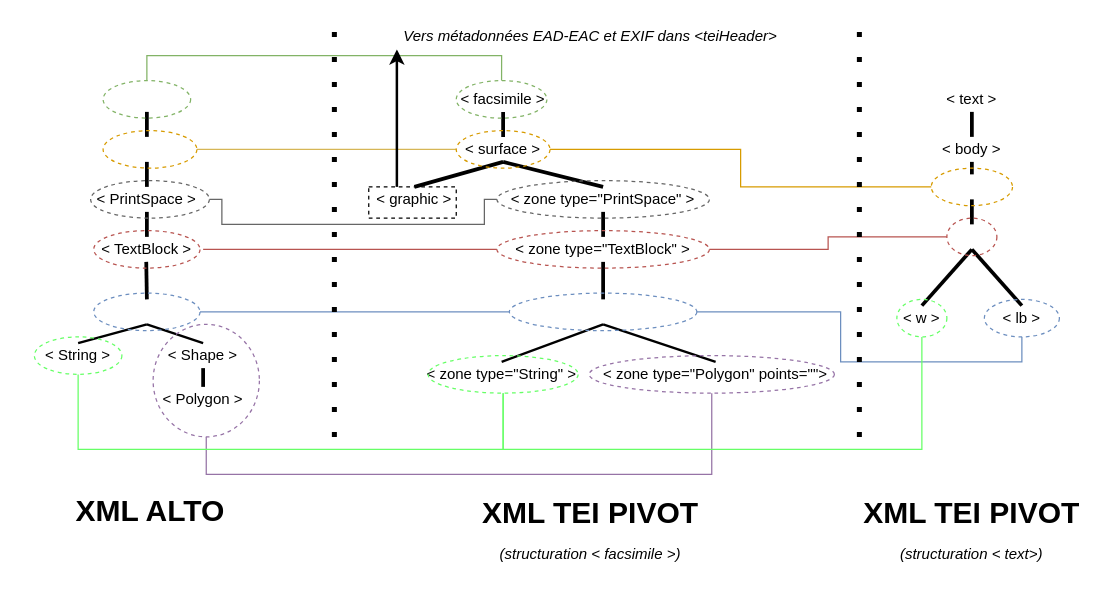
Image size: 1105x608. Some labels were removed from this diagram. The shapes that lost their labels are listed below. From the top down, each one's box as (x1, y1, x2, y2) in pixels, then its label:
(102, 79, 191, 118): < Layout >
(102, 129, 197, 168): < Page >
(930, 167, 1012, 206): < div >
(946, 217, 997, 256): < ab >
(92, 292, 200, 331): < TextLine >
(508, 292, 697, 331): < zone type="Textline" >
